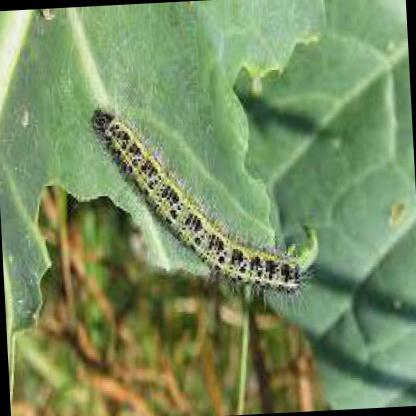pieris: (97, 106, 312, 295)
